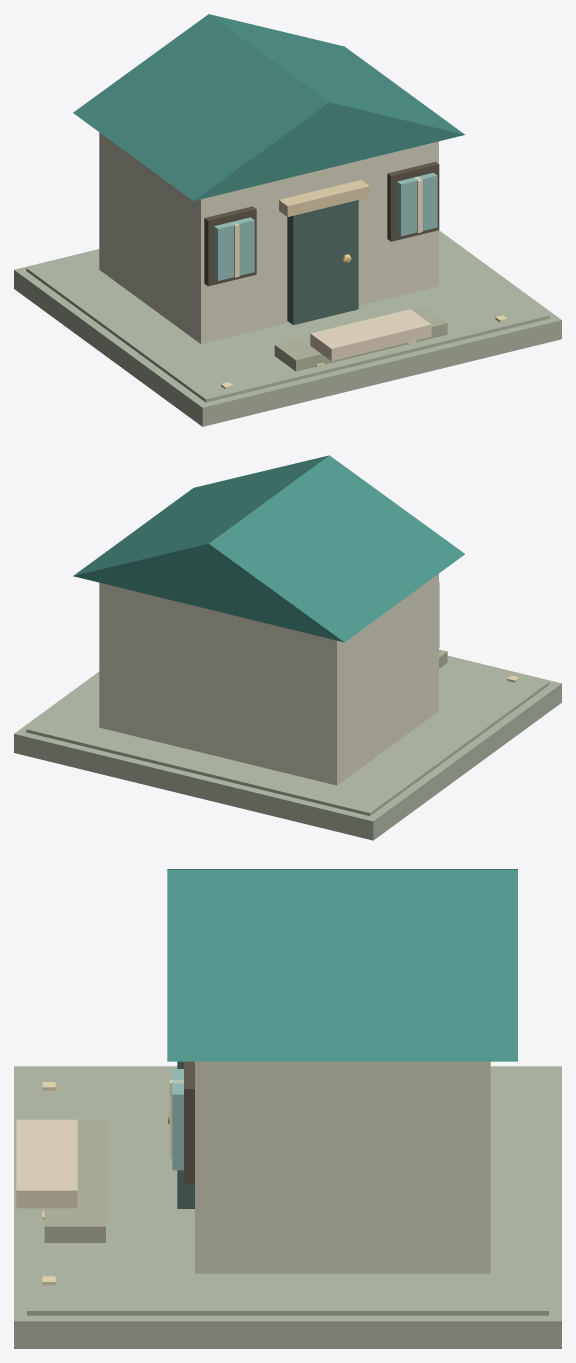
The model's file is bank-lv1.obj.
The picture shows the model from 3 angles, top to bottom: view 1: azimuth 30°, elevation 25°; view 2: azimuth 150°, elevation 25°; view 3: azimuth 270°, elevation 25°; orthographic projection. The views are drawn at different scales.
Parts seen in each view (by area): view 1: bank_3, bank_0, bank_2, bank_4, bank_8, bank_11, bank_7, bank_10, bank_5, bank_9; view 2: bank_2, bank_3, bank_0; view 3: bank_0, bank_3, bank_2, bank_11, bank_10, bank_7, bank_8, bank_4.
Part boxes in pixels (box(x1,y1,x2,y2)): bank_3: box(73, 14, 464, 200); bank_0: box(14, 230, 561, 426); bank_2: box(99, 132, 438, 344); bank_4: box(287, 200, 358, 325); bank_8: box(214, 172, 437, 280); bank_11: box(310, 309, 431, 361); bank_7: box(204, 161, 439, 286); bank_10: box(274, 308, 447, 371); bank_5: box(279, 180, 369, 216); bank_9: box(230, 176, 422, 277); bank_2: box(99, 574, 438, 785); bank_3: box(73, 455, 464, 642); bank_0: box(14, 655, 561, 840); bank_0: box(14, 1066, 561, 1348); bank_3: box(167, 869, 517, 1061); bank_2: box(195, 1061, 490, 1273); bank_11: box(16, 1119, 77, 1208); bank_10: box(44, 1119, 105, 1242); bank_7: box(184, 1061, 194, 1184); bank_8: box(172, 1069, 183, 1170); bank_4: box(177, 1061, 194, 1208).
Bounding box in the file's own units: 2.75 × 1.77 × 2.5.
